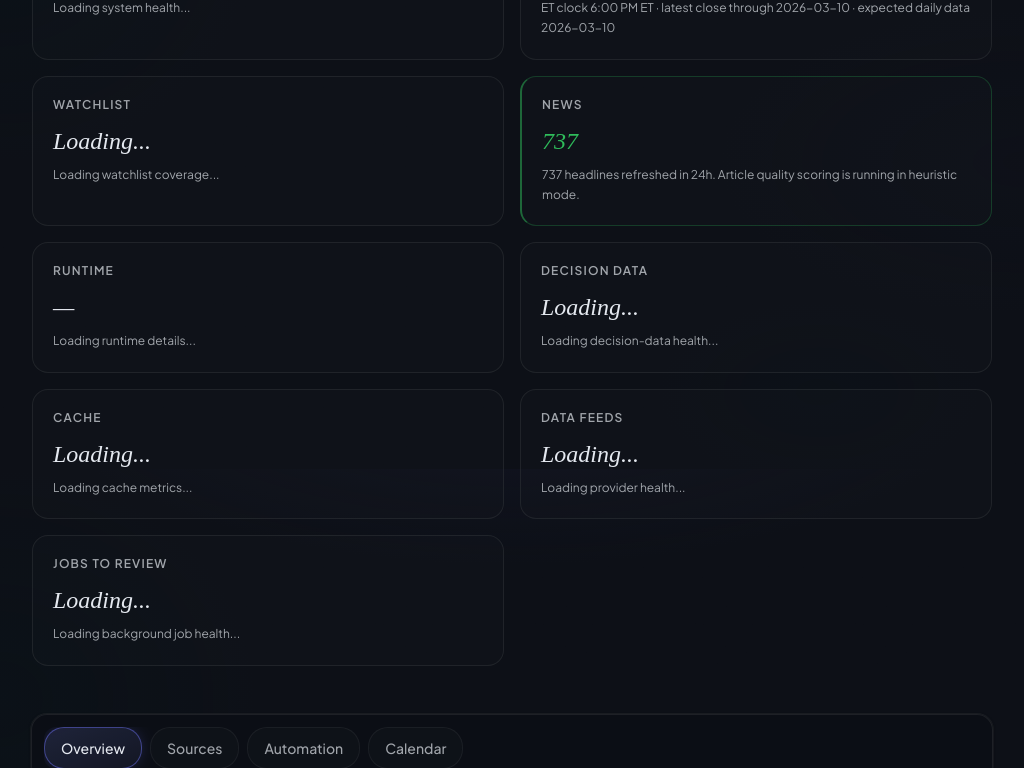
Test case: StatusWorkspace › renders partial status while the slower health query is still loading
The image size is (1024, 768).
(page scrolled)
Expected: the text "Loading system health..." is shown, [53,0,190,15]
Expected: the text "737" is shown, [542,128,578,154]
Click the tab "Sources" at (195, 748), box [150,726,240,767]
(page scrolled)
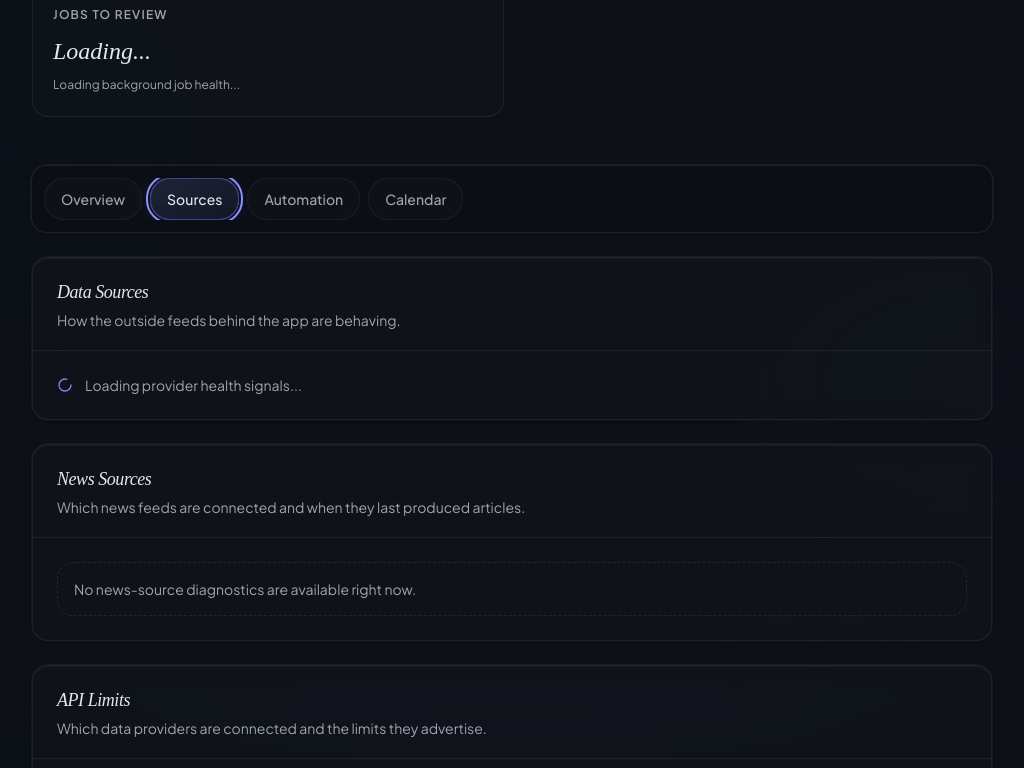
Expected: the text "Loading provider health signals..." is shown, [57,376,302,394]
